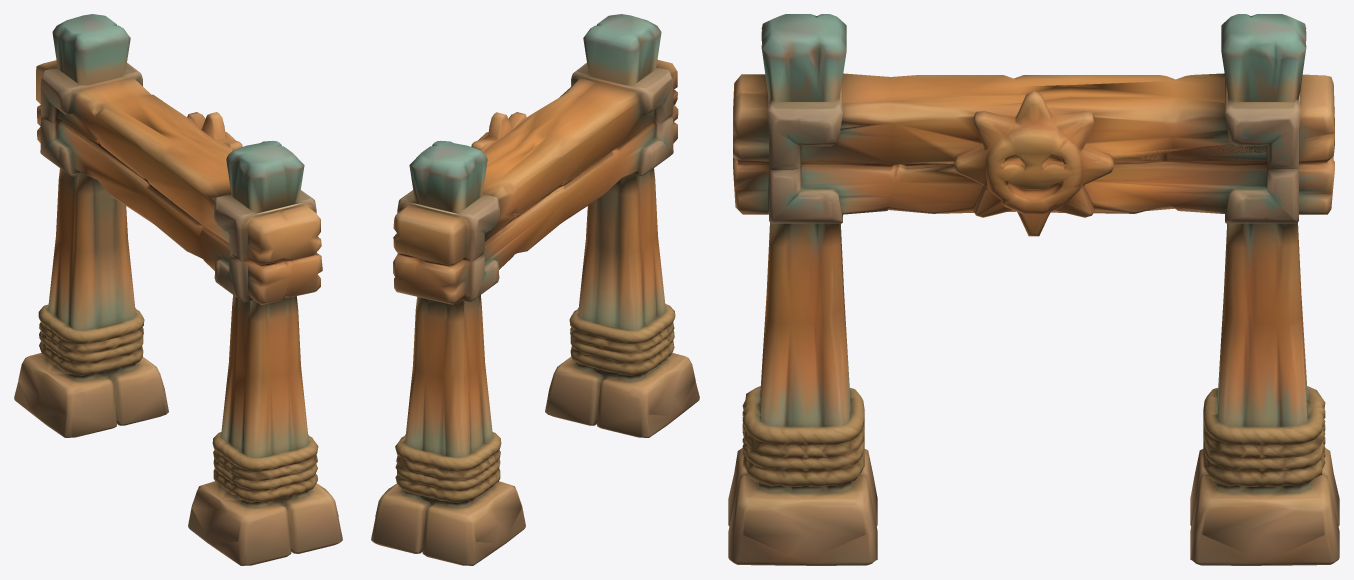
The model's file is tripo_raw.glb.
3 renders of one model, left to right at view 1: azimuth 30°, elevation 25°; view 2: azimuth 150°, elevation 25°; view 3: azimuth 270°, elevation 25°, orthographic. The views are drawn at different scales.
Parts seen in each view (by area): view 1: tripo_node_c370242b-c7e7-4ce2-a581-042b2f4e713a; view 2: tripo_node_c370242b-c7e7-4ce2-a581-042b2f4e713a; view 3: tripo_node_c370242b-c7e7-4ce2-a581-042b2f4e713a.
Part boxes in pixels (bbox=[...]): tripo_node_c370242b-c7e7-4ce2-a581-042b2f4e713a: bbox=[14, 14, 342, 565]; tripo_node_c370242b-c7e7-4ce2-a581-042b2f4e713a: bbox=[371, 14, 699, 565]; tripo_node_c370242b-c7e7-4ce2-a581-042b2f4e713a: bbox=[728, 14, 1339, 565].
Bounding box in the file's own units: 0.2681 × 0.9139 × 1.
Materials: 1 (1 with a texture image).
